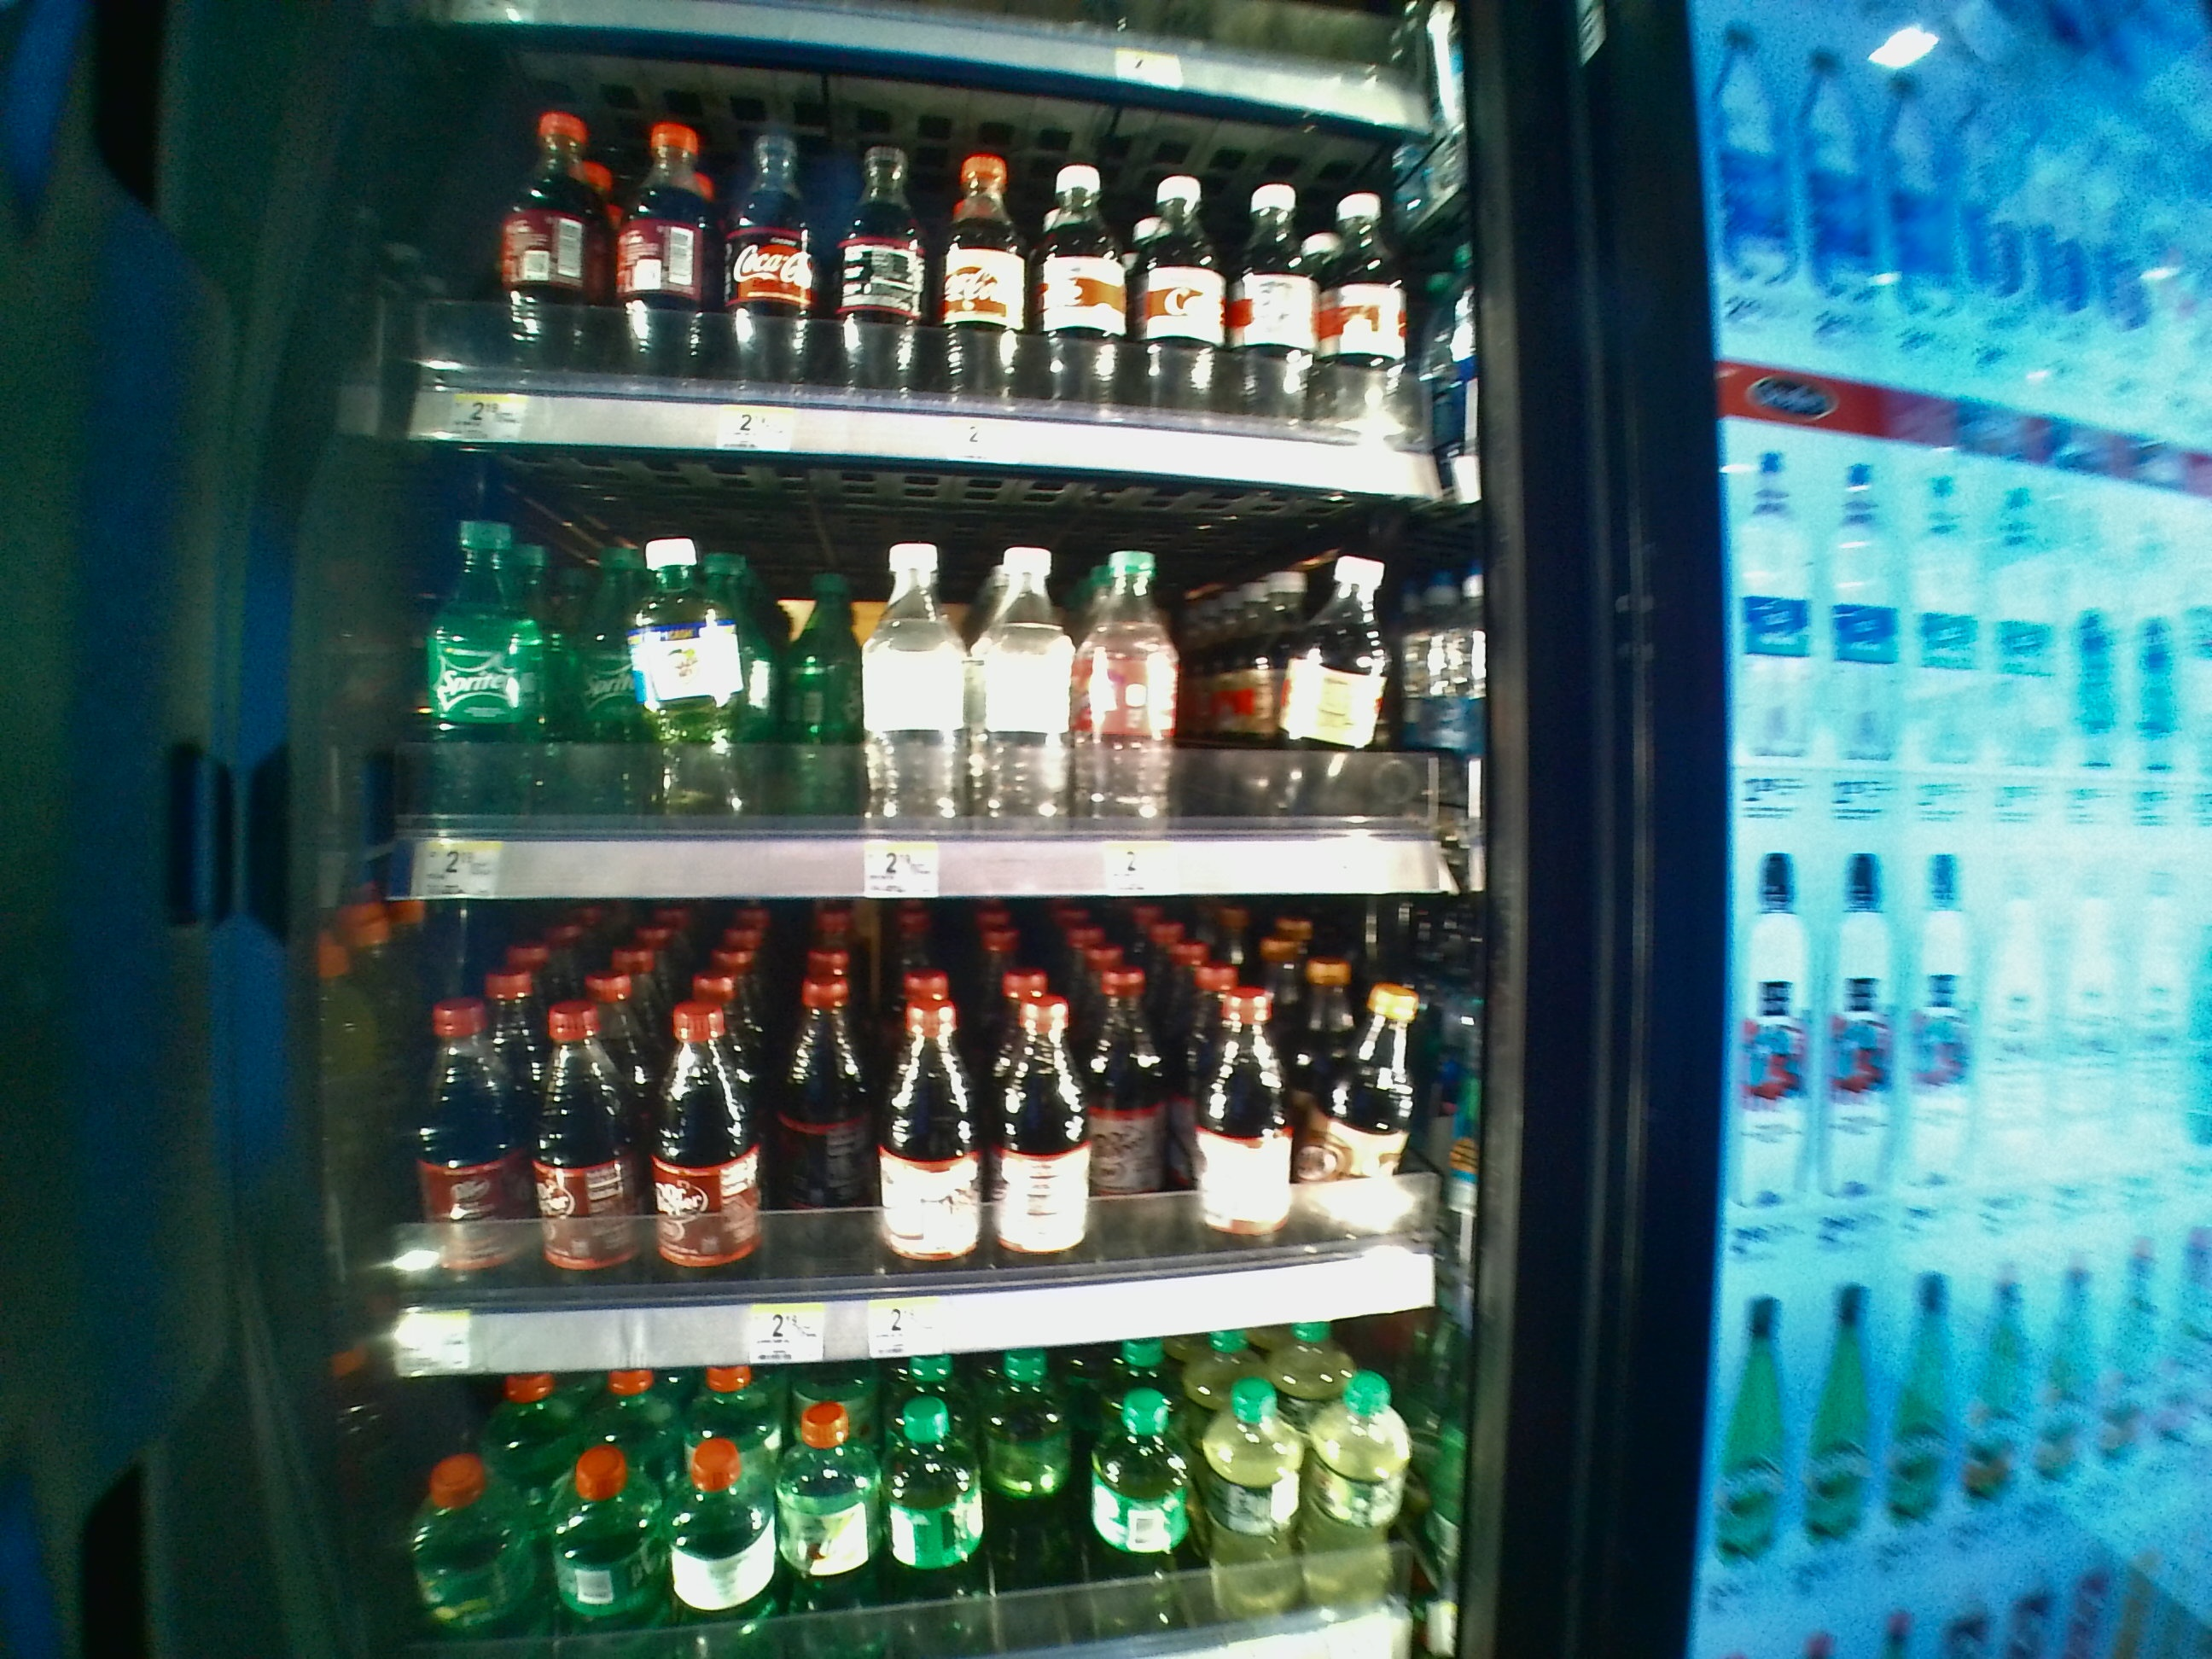shelf: (387, 913, 1493, 1377), (387, 443, 1496, 899)
